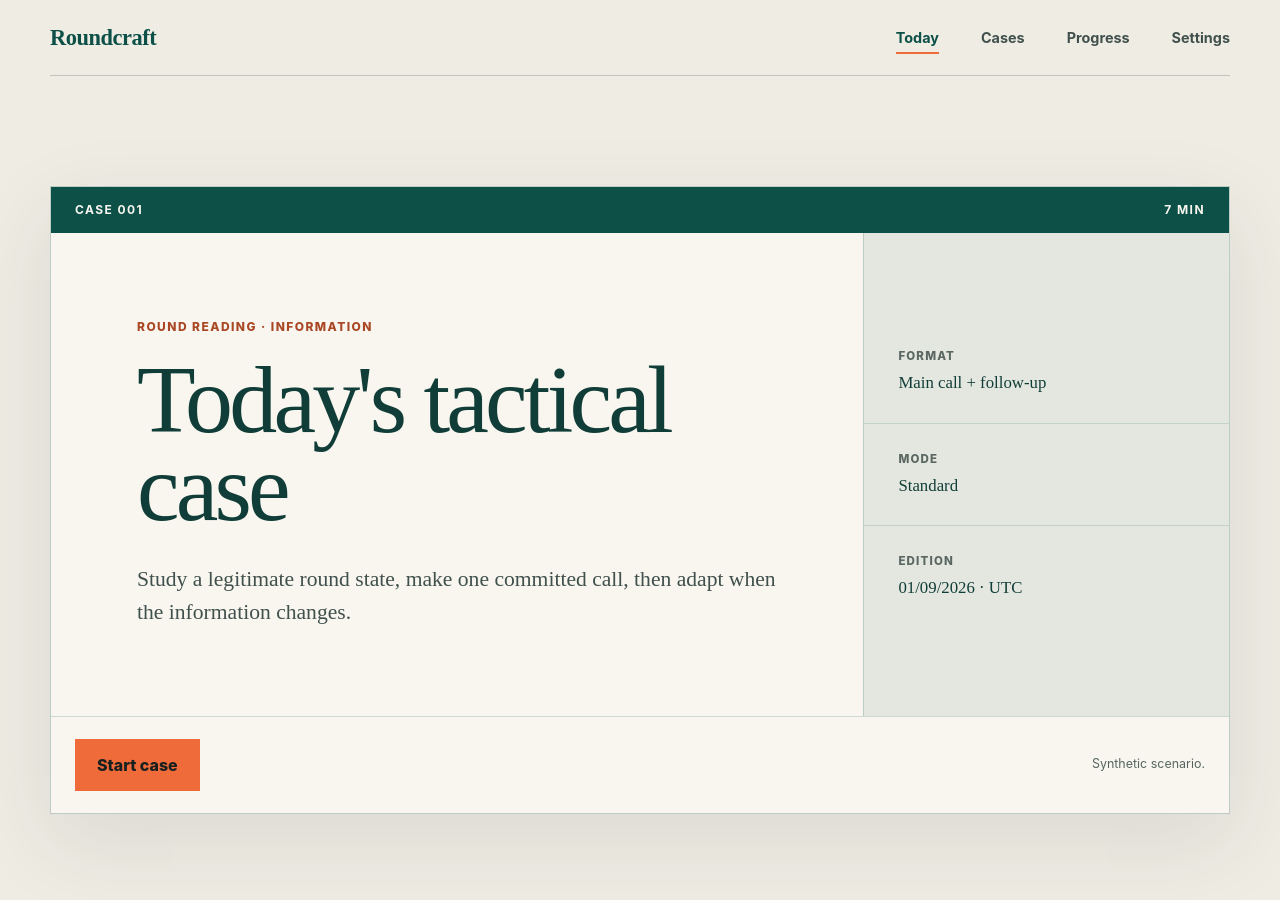
Test: App › shows a safe message when session creation fails
Step 1. Click the button "Start case" → click(137, 765), box [75,739,200,791]
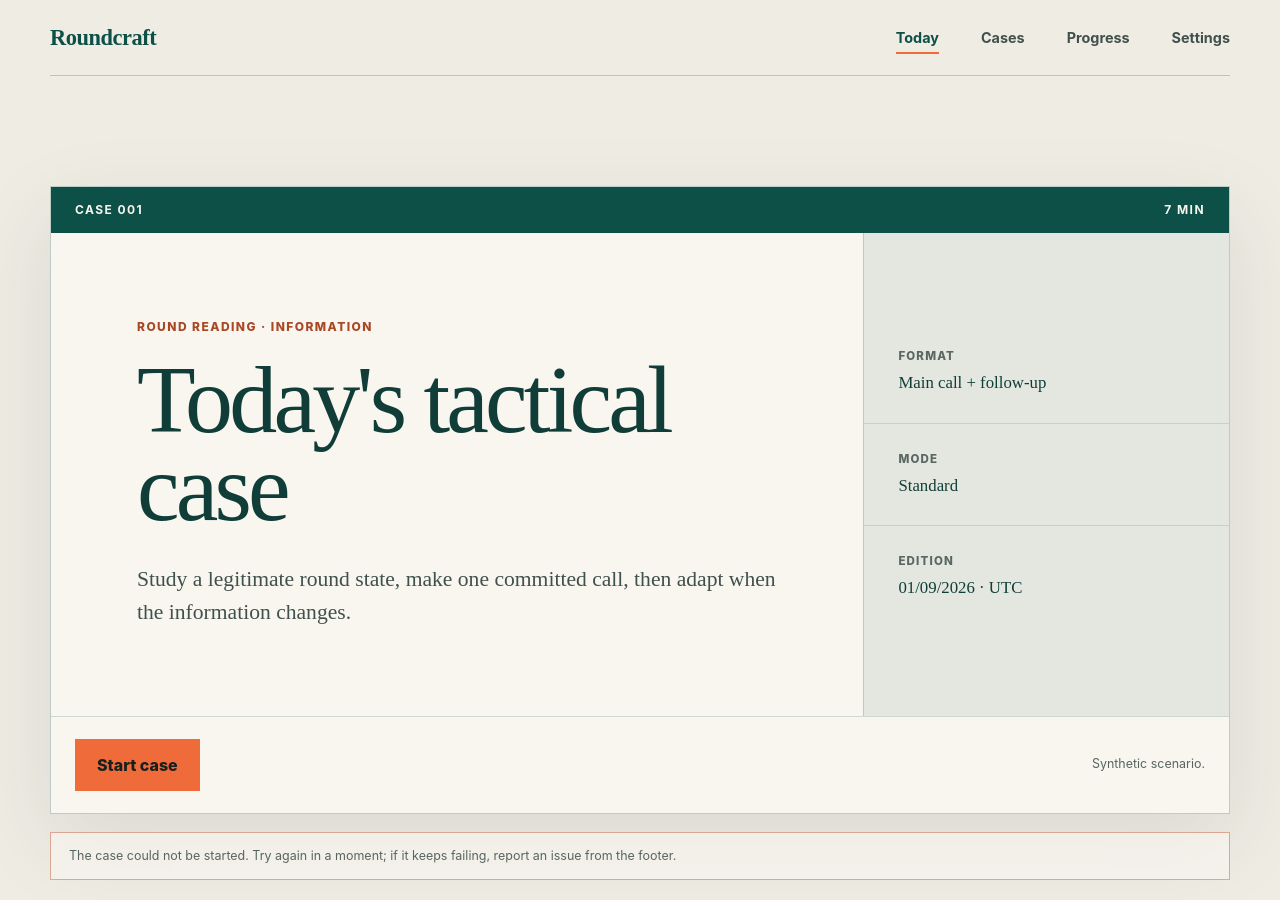
Check: the message shows "The case could not be started. Try again in a moment", box [69,848,676,863]
